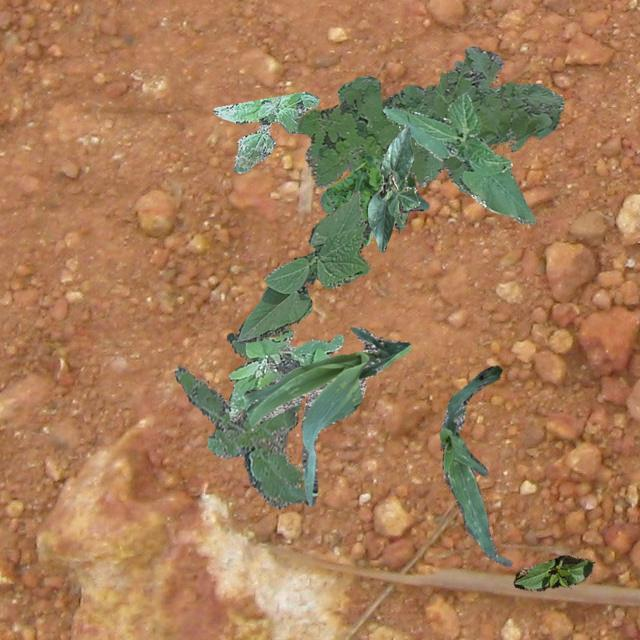crop: (242, 326, 410, 504), (234, 190, 370, 342), (382, 94, 534, 224), (438, 364, 511, 566), (306, 174, 428, 282), (366, 122, 418, 252), (512, 554, 594, 590)
weed: (297, 46, 564, 192), (173, 332, 304, 508), (228, 328, 342, 420), (212, 90, 318, 172), (318, 154, 382, 252), (511, 138, 525, 150)
